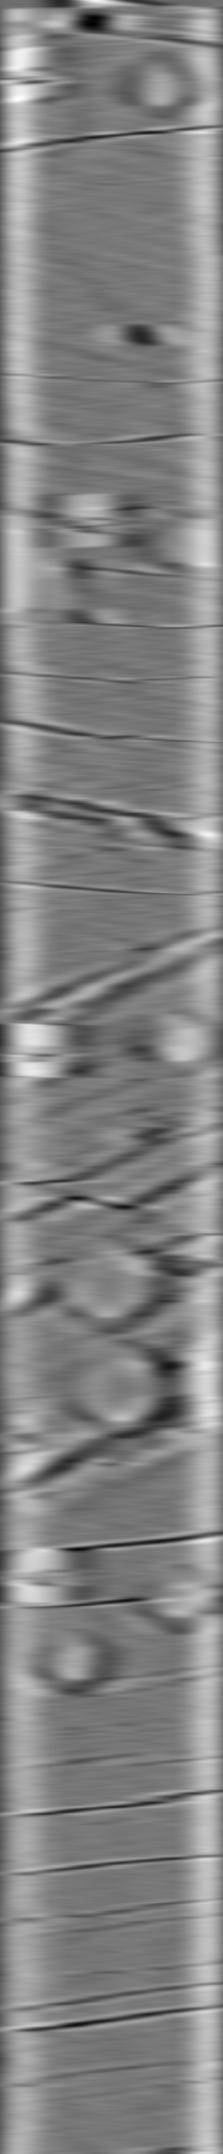hplug: (28, 1620, 128, 1698), (138, 1550, 223, 1639), (140, 499, 222, 587), (118, 47, 208, 124), (138, 1006, 223, 1078)
scal: (55, 1229, 172, 1334), (66, 1337, 180, 1440)
vplug: (4, 496, 89, 637), (19, 36, 89, 154)
